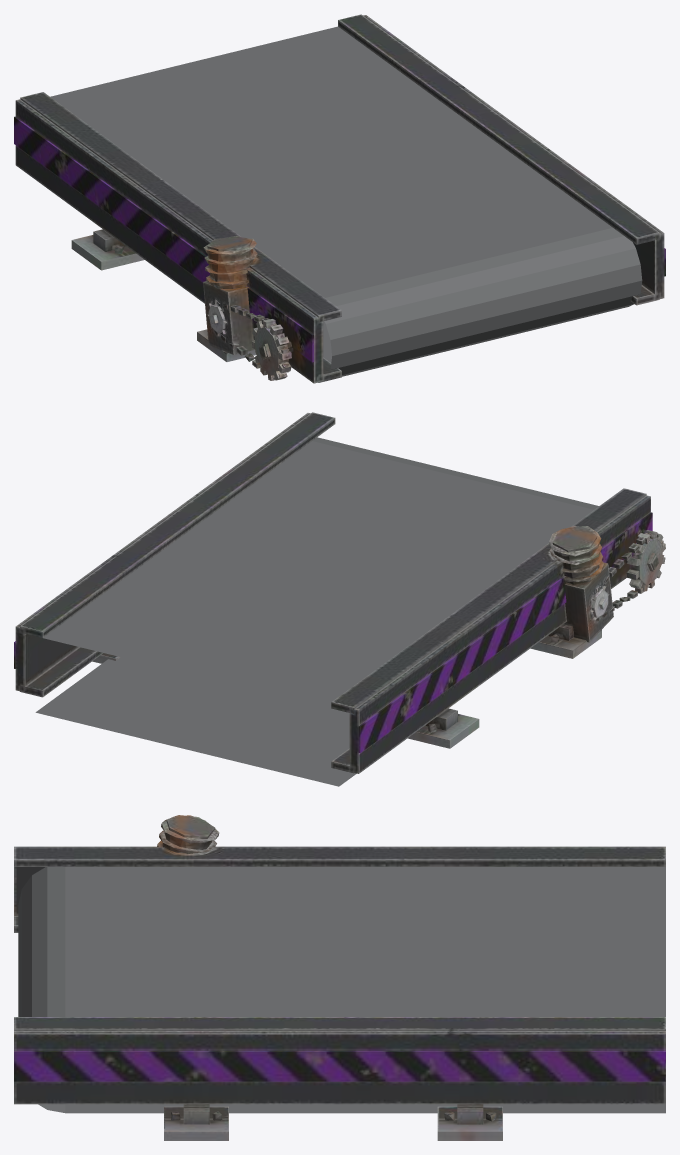
Rendered from esteira_inicio_quantica.glb.
3 views of the same model, one above another, from view 1: azimuth 30°, elevation 25°; view 2: azimuth 150°, elevation 25°; view 3: azimuth 270°, elevation 25° (orthographic). The views are drawn at different scales.
Visible parts, largest first — view 1: esteira_inicio_quantica_corpo; view 2: esteira_inicio_quantica_corpo; view 3: esteira_inicio_quantica_corpo.
Part boxes in pixels (bbox=[...]): esteira_inicio_quantica_corpo: bbox=[14, 14, 665, 383]; esteira_inicio_quantica_corpo: bbox=[14, 412, 665, 786]; esteira_inicio_quantica_corpo: bbox=[14, 815, 665, 1140].
Size of the model in its own units: 0.7687 by 0.2038 by 1.
Materials: 2 (1 with a texture image).
